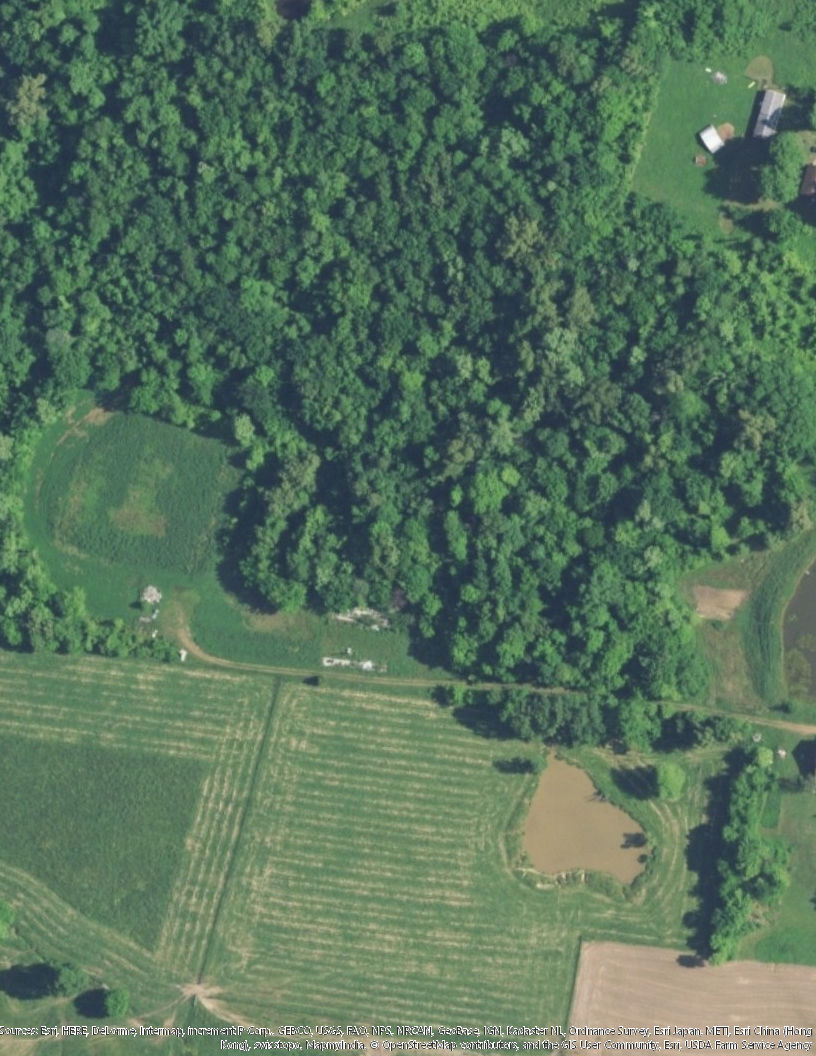cafo: (753, 84, 781, 149)
